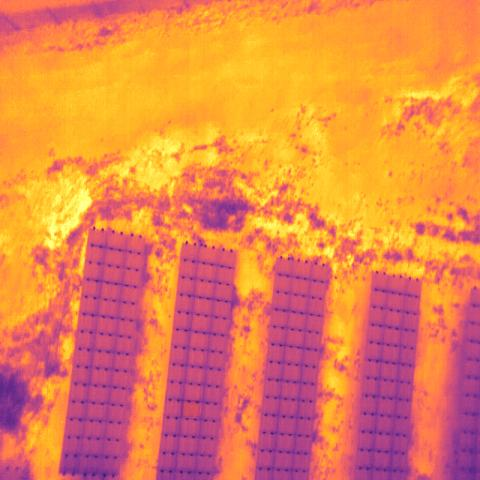fault: (181, 400, 200, 417)
